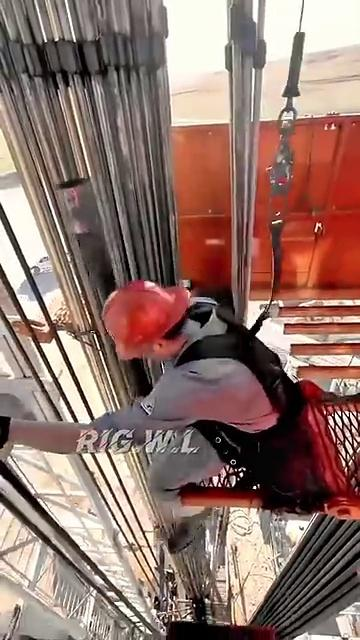helmet: (98, 262, 203, 357)
shoes: (145, 512, 255, 552)
worker: (32, 250, 315, 610)
